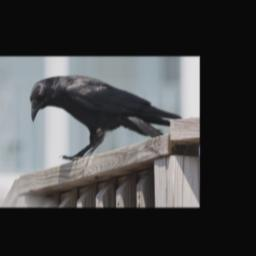Crow: (29, 74, 183, 161)
